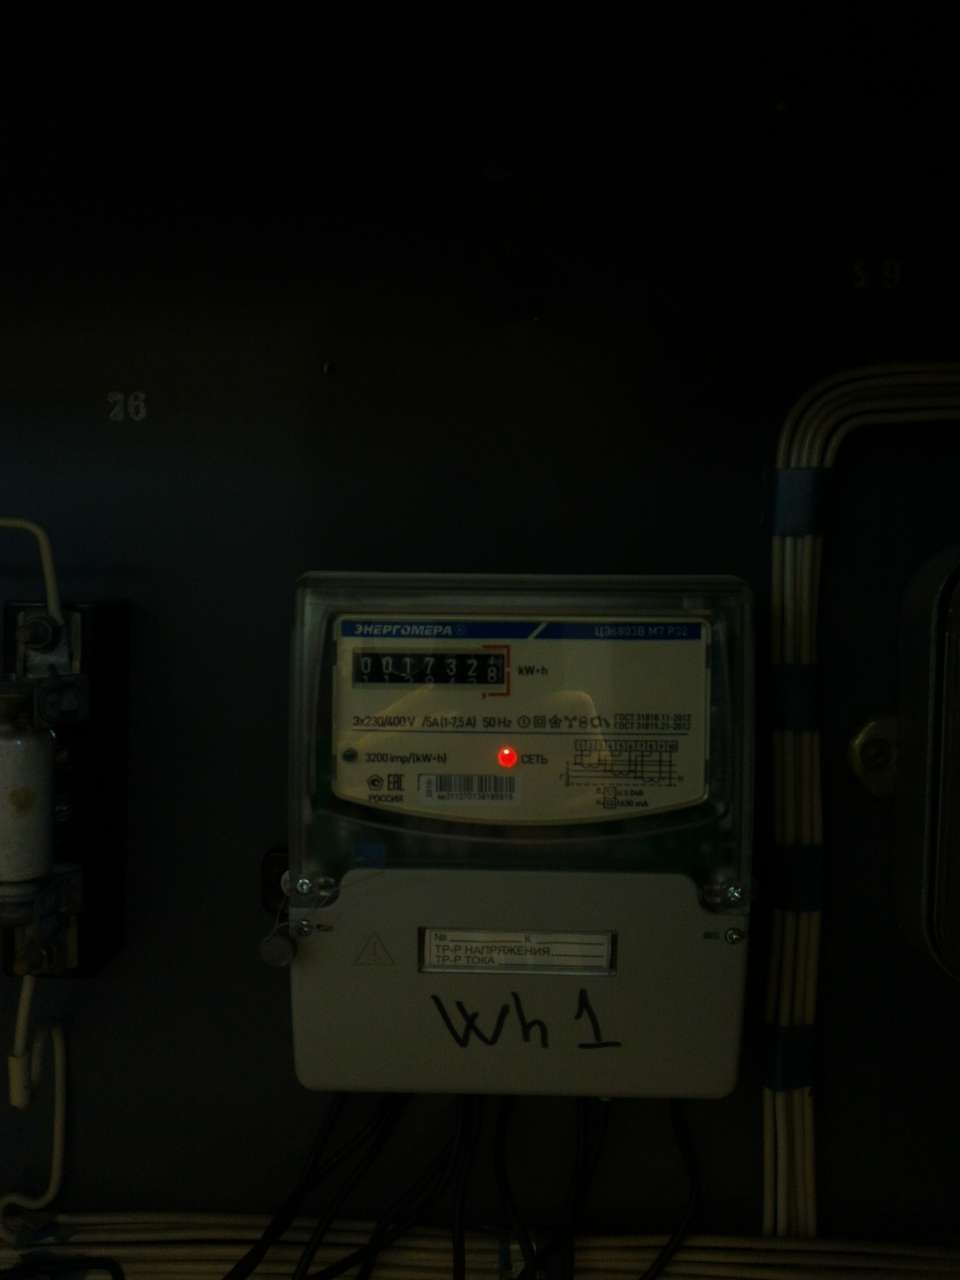0: (360, 655, 372, 674), (381, 655, 393, 673)
1: (402, 656, 413, 675)
2: (467, 658, 478, 677)
3: (445, 657, 457, 676)
7: (423, 656, 435, 676)
8: (486, 665, 497, 683)
screen: (346, 643, 513, 690)
